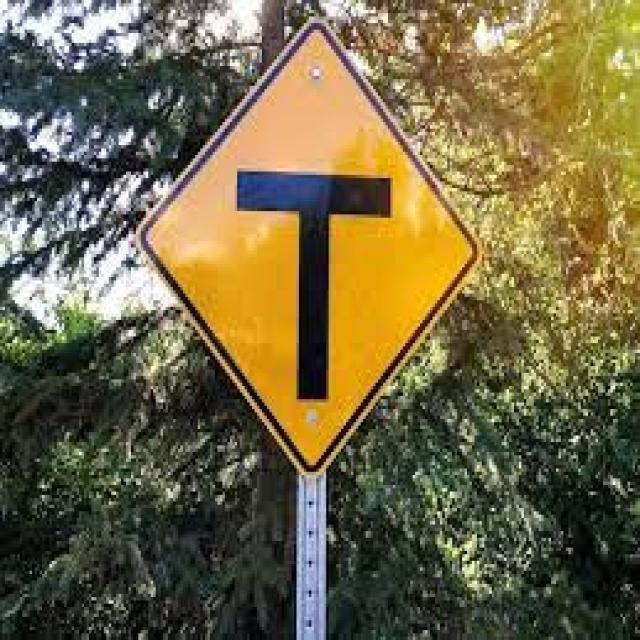t intersection: (134, 27, 479, 467)
